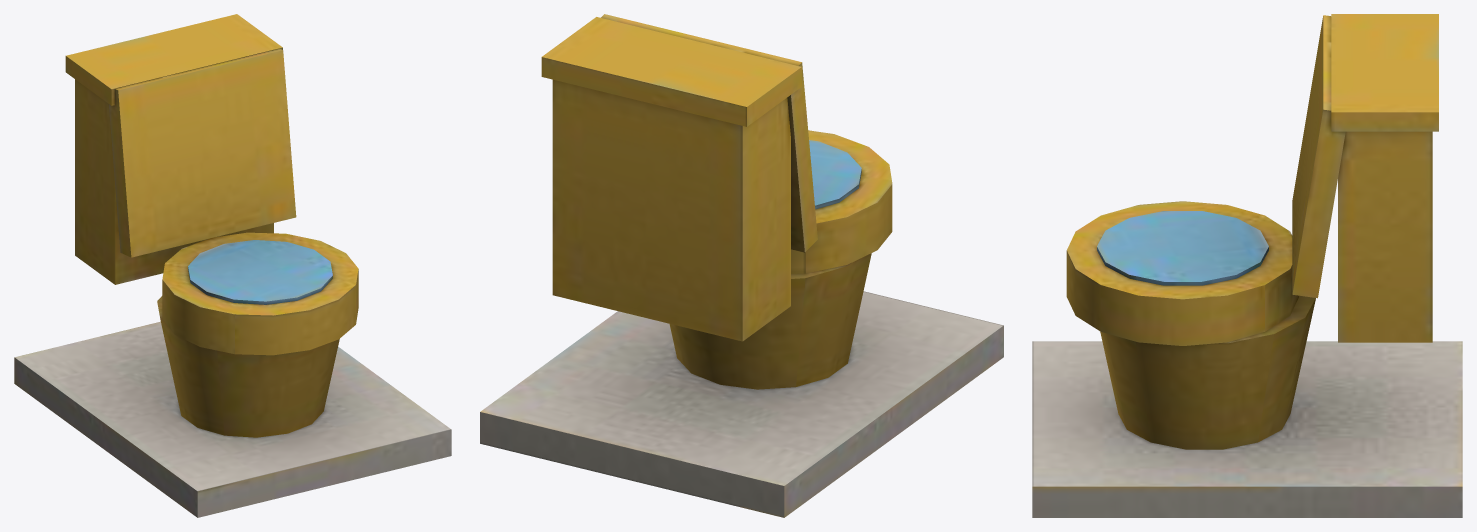
File: inodoro_oro.glb
3 renders of one model, left to right at view 1: azimuth 30°, elevation 25°; view 2: azimuth 150°, elevation 25°; view 3: azimuth 270°, elevation 25°, orthographic. The views are drawn at different scales.
Visible parts, largest first — view 1: inodoro_oro; view 2: inodoro_oro; view 3: inodoro_oro.
Part boxes in pixels (x1,y1,x2,y2): inodoro_oro: [14, 14, 451, 517]; inodoro_oro: [480, 14, 1003, 517]; inodoro_oro: [1032, 14, 1462, 517].
Bounding box in the file's own units: 0.8 × 0.9818 × 1.
1 material, 1 textured.
